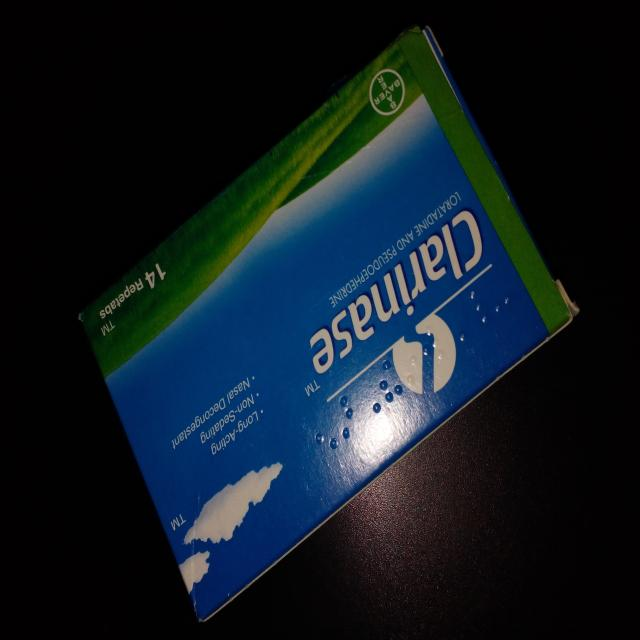Medicine: (71, 16, 584, 626)
